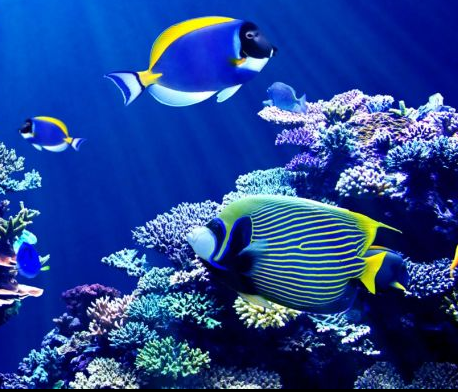fishRound: (185, 192, 403, 314), (104, 15, 278, 109), (360, 245, 411, 302), (18, 114, 87, 154), (263, 81, 308, 115)
